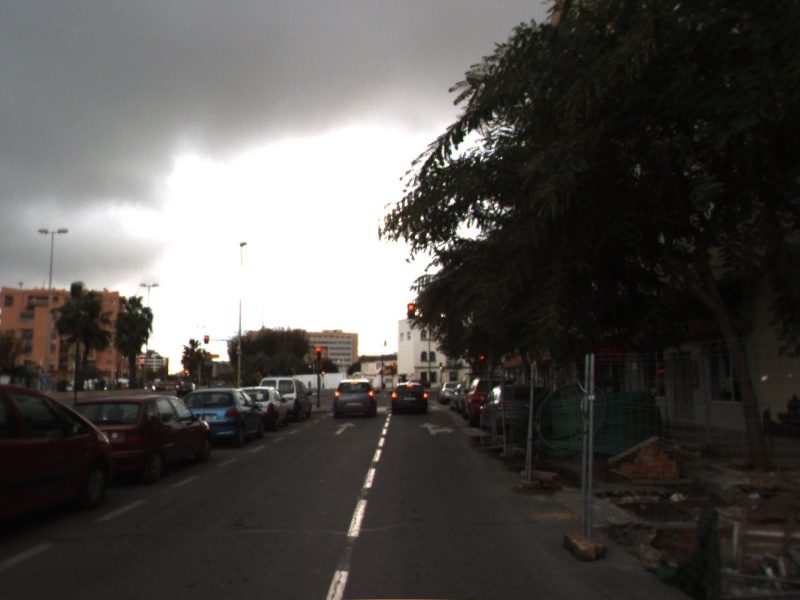STRAIGHT: (333, 420, 357, 435)
STRAIGHT_RIGHT: (417, 420, 456, 437)
